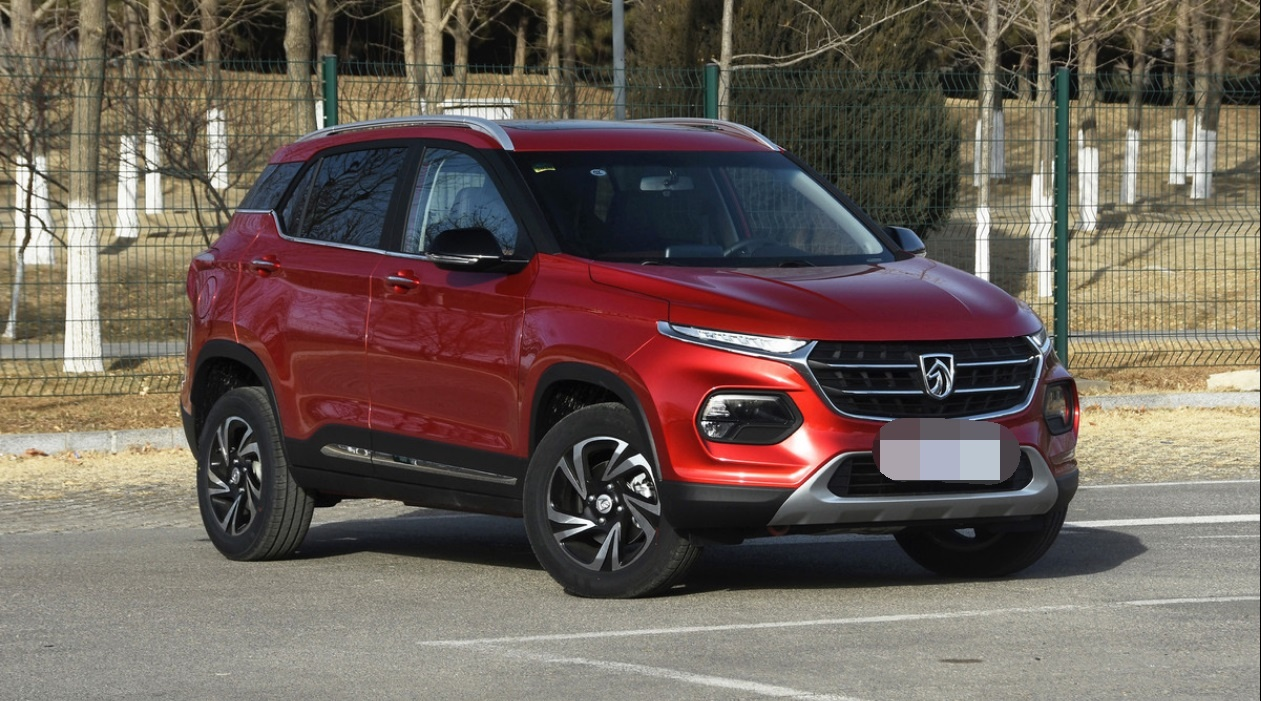SUV: (170, 90, 1098, 599)
